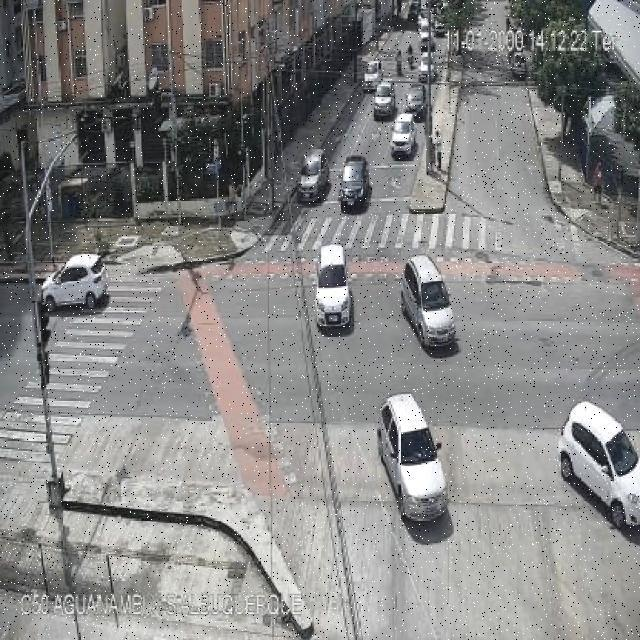Car: (552, 396, 640, 531), (379, 394, 450, 521), (401, 254, 457, 348), (41, 254, 109, 312), (314, 244, 352, 328), (298, 148, 330, 202), (338, 156, 369, 210), (390, 113, 417, 157), (373, 82, 396, 119), (405, 84, 427, 118)
